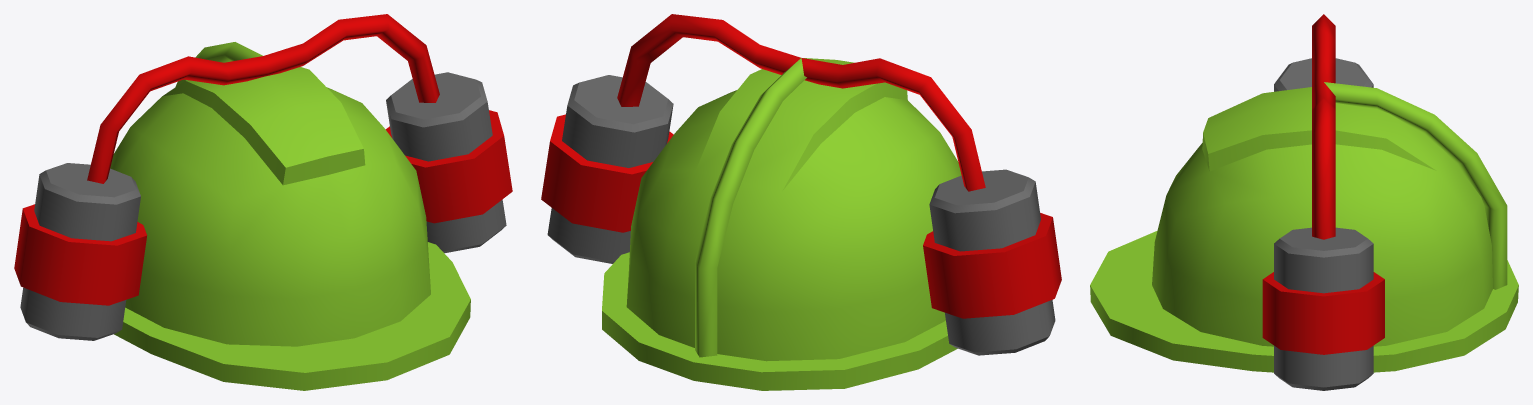
File: m_BeerHat01.fbx
The picture shows the model from 3 angles, left to right: view 1: azimuth 30°, elevation 25°; view 2: azimuth 150°, elevation 25°; view 3: azimuth 270°, elevation 25°; orthographic projection. The views are drawn at different scales.
Parts seen in each view (by area): view 1: m_BeerHat01; view 2: m_BeerHat01; view 3: m_BeerHat01.
Boxes of the visible parts, x1,y1,x2,y2 form: m_BeerHat01: [14, 14, 512, 390]; m_BeerHat01: [541, 14, 1061, 390]; m_BeerHat01: [1090, 14, 1518, 390].
Size of the model in its own units: 9.9 by 4.91 by 8.04.
